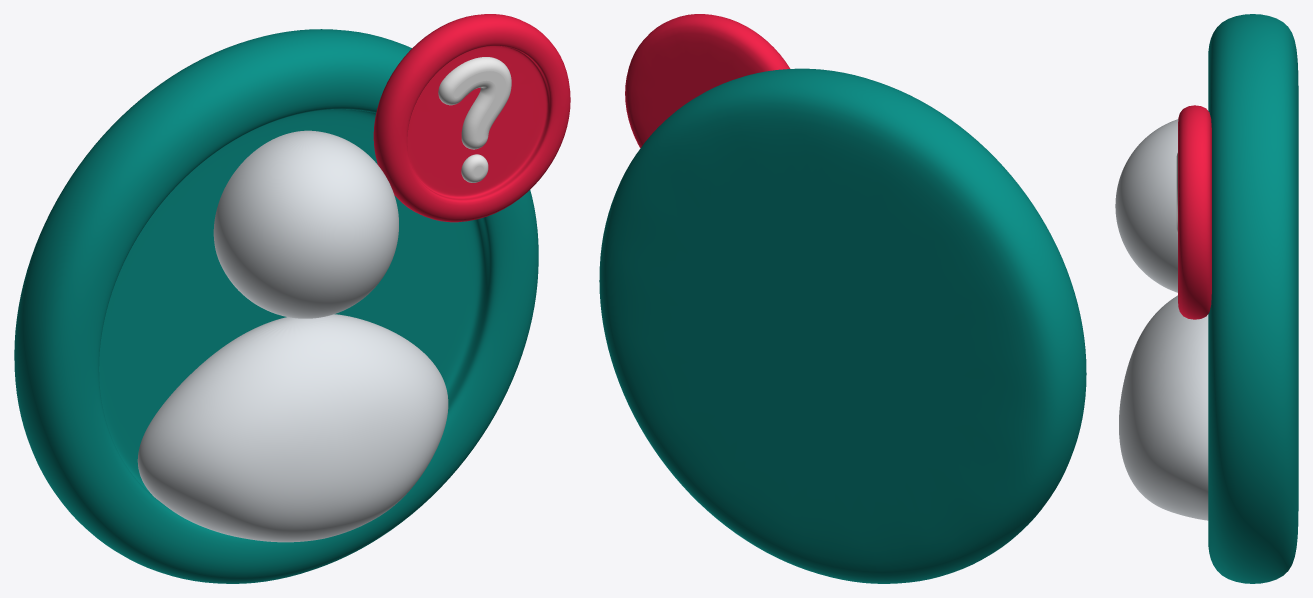
The model's file is empty-user-profile-3d-animated-icon-226651108701.glb.
3 views of the same model, side by side, from view 1: azimuth 30°, elevation 25°; view 2: azimuth 150°, elevation 25°; view 3: azimuth 270°, elevation 25° (orthographic). The views are drawn at different scales.
Parts seen in each view (by area): view 1: CIRCLE BACKGROUND, PEOPLE, RED CIRCLE, people_001, Text; view 2: CIRCLE BACKGROUND, RED CIRCLE; view 3: CIRCLE BACKGROUND, PEOPLE, people_001, RED CIRCLE.
Boxes of the visible parts, bbox=[...] form: CIRCLE BACKGROUND: bbox=[14, 29, 538, 583]; PEOPLE: bbox=[137, 314, 448, 542]; RED CIRCLE: bbox=[373, 14, 570, 222]; people_001: bbox=[213, 130, 398, 318]; Text: bbox=[438, 57, 511, 182]; CIRCLE BACKGROUND: bbox=[599, 68, 1086, 583]; RED CIRCLE: bbox=[625, 14, 790, 147]; CIRCLE BACKGROUND: bbox=[1208, 14, 1298, 583]; PEOPLE: bbox=[1119, 295, 1208, 520]; people_001: bbox=[1115, 119, 1178, 292]; RED CIRCLE: bbox=[1178, 105, 1211, 319].
Size of the model in its own units: 0.941 by 0.9345 by 0.2979.
